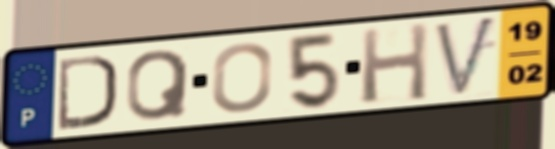5: (282, 28, 344, 112)
D: (56, 52, 121, 133)
H: (358, 19, 431, 106)
O: (209, 40, 275, 116)
Q: (123, 47, 192, 124)
V: (431, 12, 501, 100)
